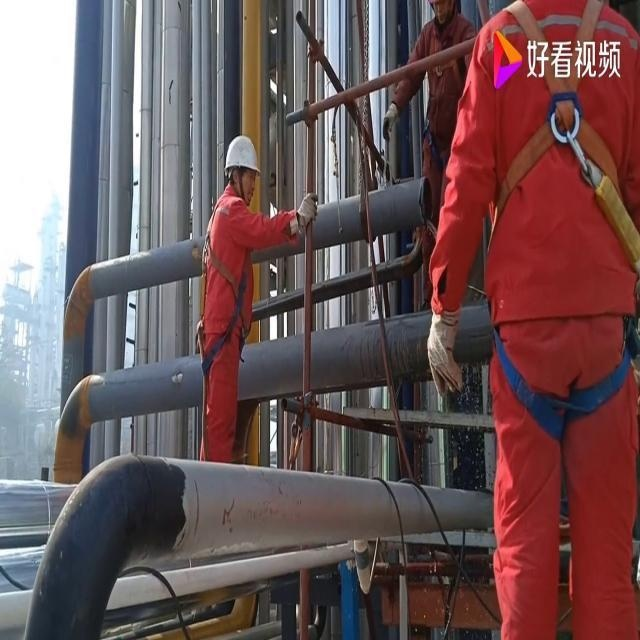Arnes_seguridad: (194, 182, 254, 376), (420, 20, 470, 164)
